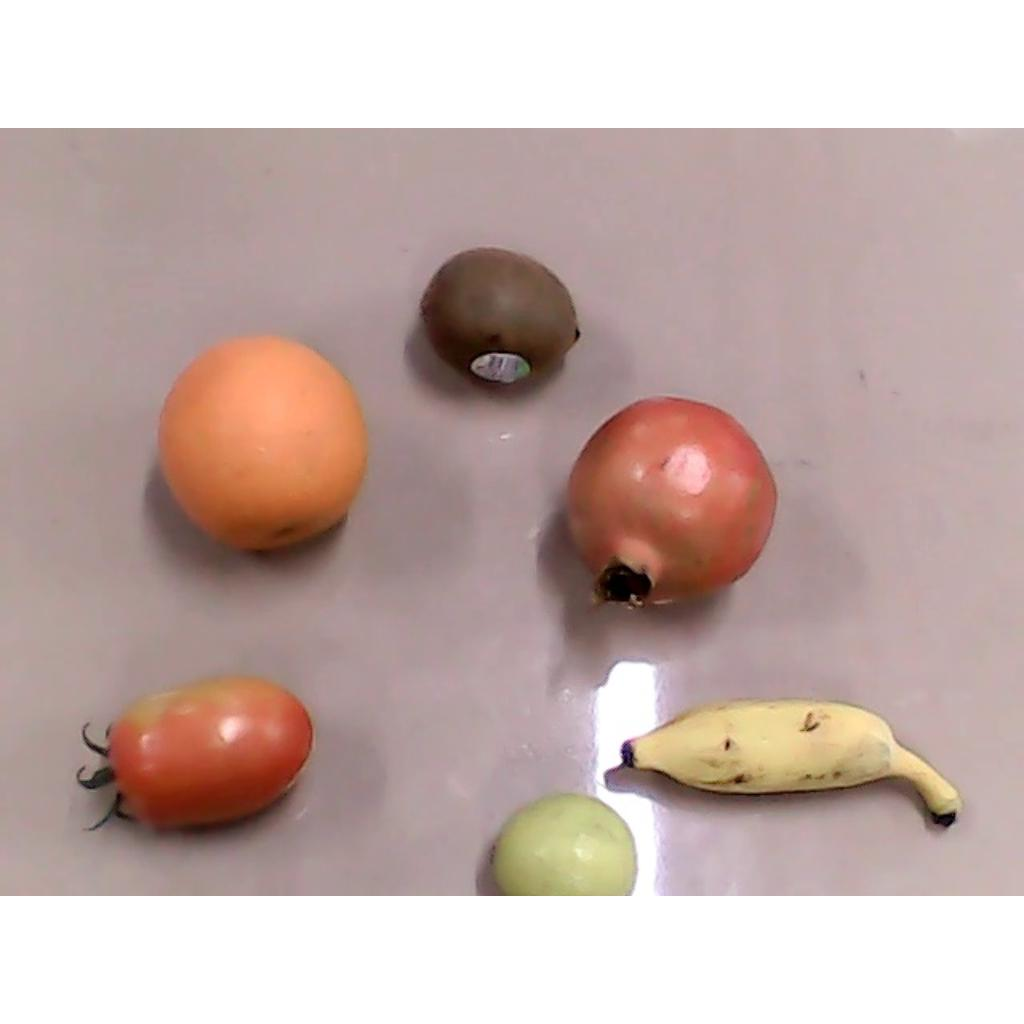kiwi: (418, 247, 583, 388)
lemon: (491, 790, 639, 894)
orange: (159, 333, 369, 550)
pomegranate: (566, 395, 777, 611)
tomato: (75, 673, 314, 830)
